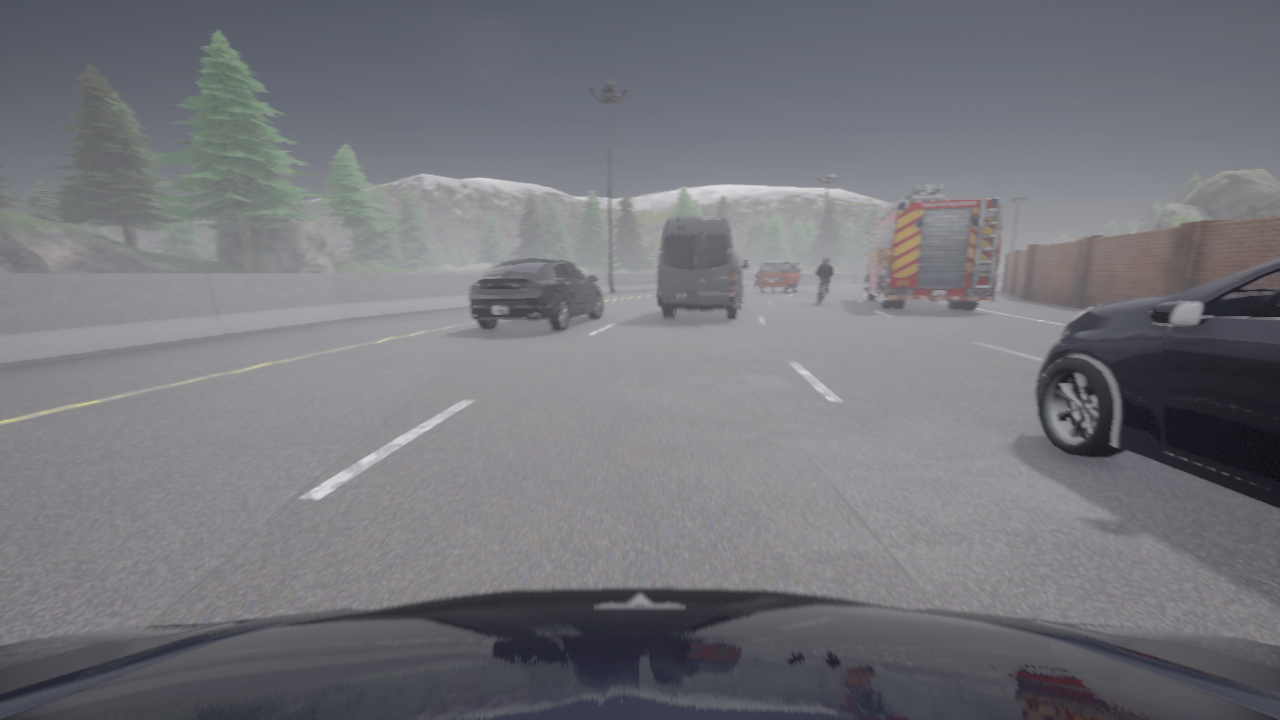cyclist: (0, 588, 1279, 719), (1035, 259, 1279, 509), (861, 184, 1002, 310), (468, 259, 602, 331), (657, 217, 748, 319), (757, 261, 801, 293), (818, 284, 825, 305), (751, 274, 757, 288)
